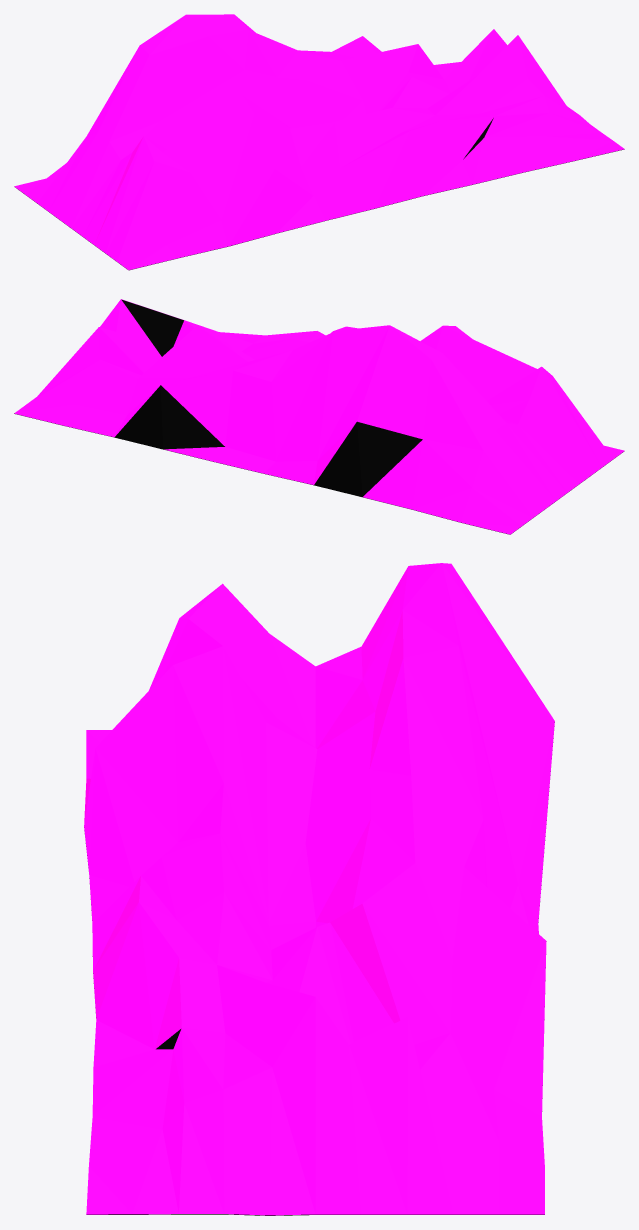
File: Mountain_Lo_02.FBX
3 renders of one model, top to bottom at view 1: azimuth 30°, elevation 25°; view 2: azimuth 150°, elevation 25°; view 3: azimuth 270°, elevation 25°, orthographic. The views are drawn at different scales.
Parts seen in each view (by area): view 1: Plane001, Plane002; view 2: Plane001, Plane002; view 3: Plane001.
Part boxes in pixels (x1,y1,x2,y2): Plane001: (14,14,624,270); Plane002: (15,118,624,270); Plane001: (14,299,624,534); Plane002: (14,299,624,534); Plane001: (84,563,554,1215).
Bounding box in the file's own units: 1002 × 299 × 411.
